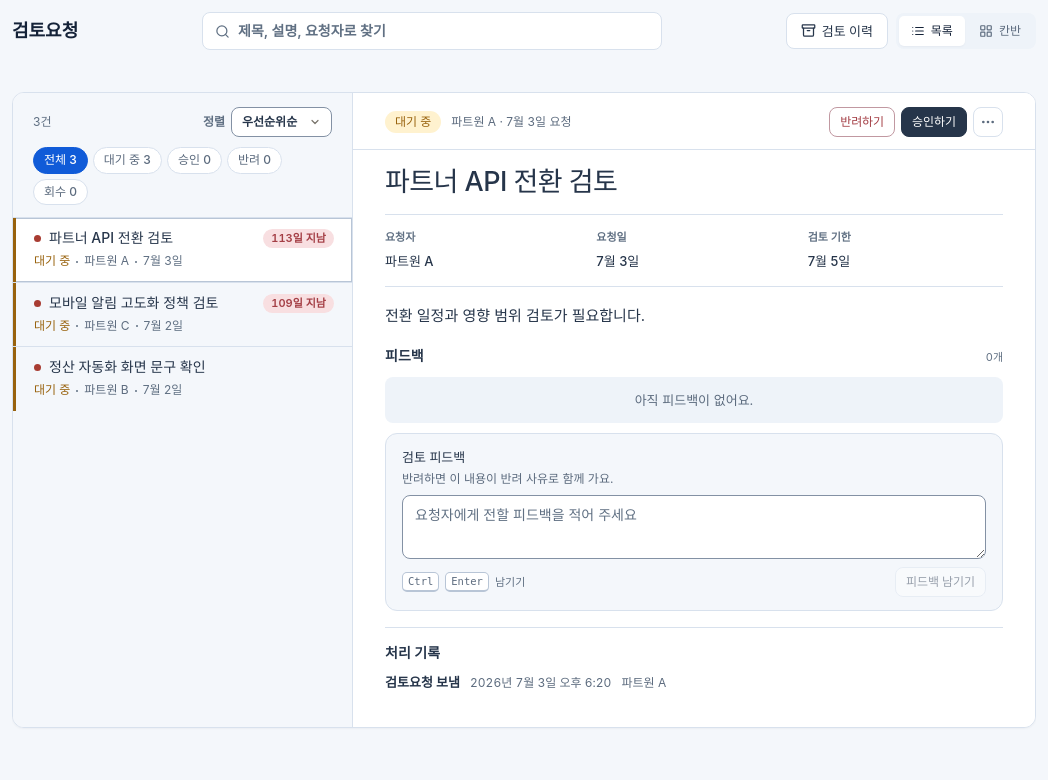
ReviewsPanel › renders review list and filters by status
Check: the heading "검토요청" is shown, box [12, 17, 78, 45]
Check: the element named "검토요청 목록" is shown, box [13, 93, 353, 727]
Click the button "승인 0".
click(194, 160)  # box [167, 147, 222, 174]
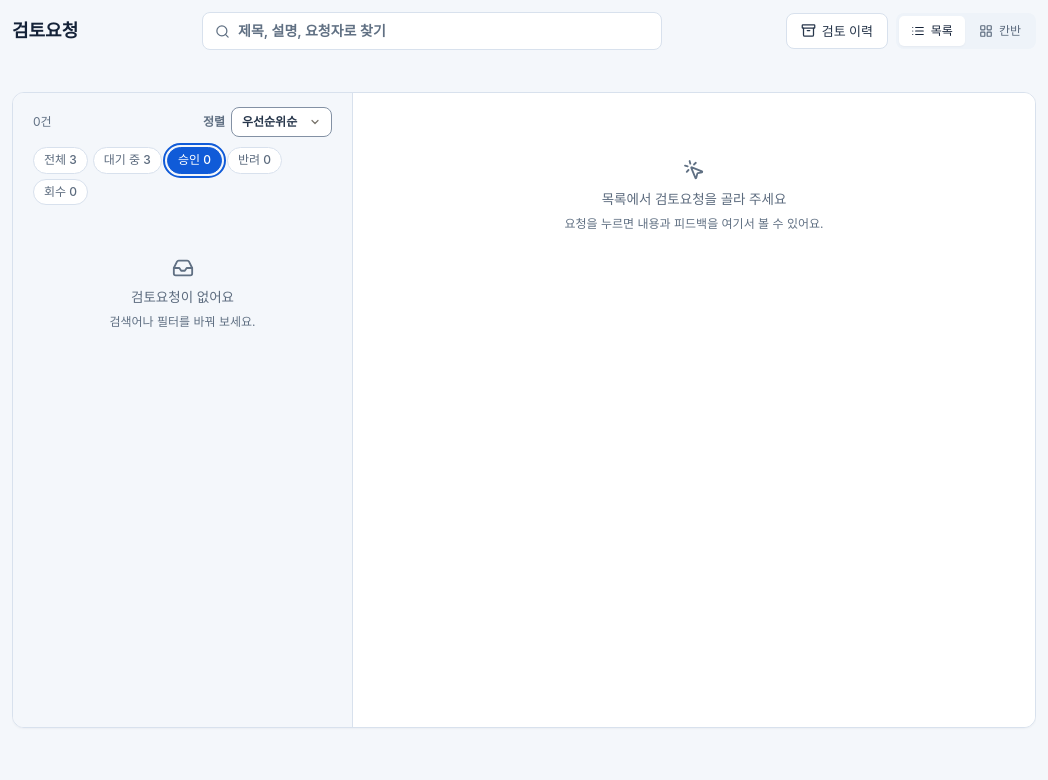
Check: the text "검토요청이 없어요" is shown, box [131, 287, 234, 308]
